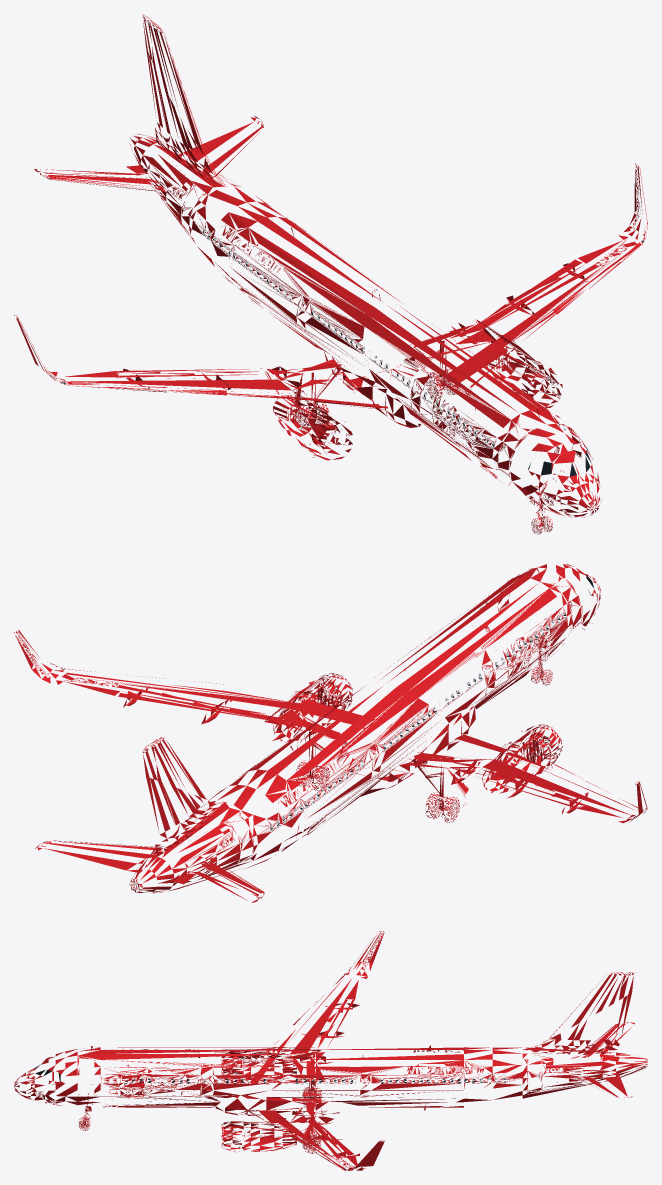
The model's file is a321neo-lod0.glb.
3 views of the same model, one above another, from view 1: azimuth 30°, elevation 25°; view 2: azimuth 150°, elevation 25°; view 3: azimuth 270°, elevation 25° (orthographic). The views are drawn at different scales.
Parts seen in each view (by area): view 1: Group8, Mesh23_M_0128_White_0, Mesh41_Color_003_0, Group3, Mesh57_Color_003_0, Group18, Mesh46_Qatar_0, Mesh23__Translucent_Glass_Gray_1_0, Mesh30_Qatar_0, Component_1_1, Group49; view 2: Group8, Mesh23_M_0128_White_0, Mesh41_Color_003_0, Group3, Mesh57_Color_003_0, Group18, Component_1_1, Component_3_1, Mesh23__Translucent_Glass_Gray_1_0, Mesh24__0131_Silver_1_0, Group31, Mesh46_Qatar_0 (+3 smaller); view 3: Group8, Mesh23_M_0128_White_0, Group3, Mesh57_Color_003_0, Mesh41_Color_003_0, Mesh30_Qatar_0, Mesh46_Qatar_0, Mesh23__Translucent_Glass_Gray_1_0, Group18, Component_3_1, Component_1_1, Group54 (+1 smaller).
Boxes of the visible parts, x1=… form: Group8: x1=129, y1=133, x2=484, y2=463; Mesh23_M_0128_White_0: x1=222, y1=225, x2=601, y2=517; Mesh41_Color_003_0: x1=420, y1=235, x2=642, y2=395; Group3: x1=142, y1=14, x2=226, y2=186; Mesh57_Color_003_0: x1=51, y1=371, x2=381, y2=408; Group18: x1=34, y1=165, x2=165, y2=191; Mesh46_Qatar_0: x1=286, y1=400, x2=352, y2=460; Mesh23__Translucent_Glass_Gray_1_0: x1=184, y1=208, x2=591, y2=476; Mesh30_Qatar_0: x1=499, y1=348, x2=562, y2=408; Component_1_1: x1=273, y1=395, x2=352, y2=457; Group49: x1=108, y1=363, x2=344, y2=396; Group8: x1=131, y1=615, x2=553, y2=893; Mesh23_M_0128_White_0: x1=280, y1=564, x2=600, y2=806; Mesh41_Color_003_0: x1=50, y1=663, x2=397, y2=739; Group3: x1=142, y1=737, x2=226, y2=856; Mesh57_Color_003_0: x1=416, y1=725, x2=646, y2=823; Group18: x1=173, y1=857, x2=264, y2=902; Component_1_1: x1=482, y1=724, x2=562, y2=793; Component_3_1: x1=273, y1=673, x2=352, y2=742; Mesh23__Translucent_Glass_Gray_1_0: x1=241, y1=575, x2=593, y2=841; Mesh24__0131_Silver_1_0: x1=41, y1=840, x2=163, y2=872; Group31: x1=118, y1=676, x2=340, y2=738; Mesh46_Qatar_0: x1=488, y1=726, x2=557, y2=791; Group8: x1=117, y1=1047, x2=645, y2=1115; Mesh23_M_0128_White_0: x1=14, y1=1047, x2=484, y2=1115; Group3: x1=522, y1=972, x2=636, y2=1054; Mesh57_Color_003_0: x1=230, y1=973, x2=367, y2=1084; Mesh41_Color_003_0: x1=256, y1=1106, x2=365, y2=1170; Mesh30_Qatar_0: x1=223, y1=1121, x2=282, y2=1151; Mesh46_Qatar_0: x1=223, y1=1051, x2=282, y2=1081; Mesh23__Translucent_Glass_Gray_1_0: x1=34, y1=1055, x2=539, y2=1083; Group18: x1=572, y1=1022, x2=634, y2=1061; Component_3_1: x1=221, y1=1122, x2=296, y2=1152; Component_1_1: x1=221, y1=1053, x2=296, y2=1077; Group54: x1=346, y1=931, x2=384, y2=976.
Bounding box in the file's own units: 13.54 × 4.72 × 17.3.
